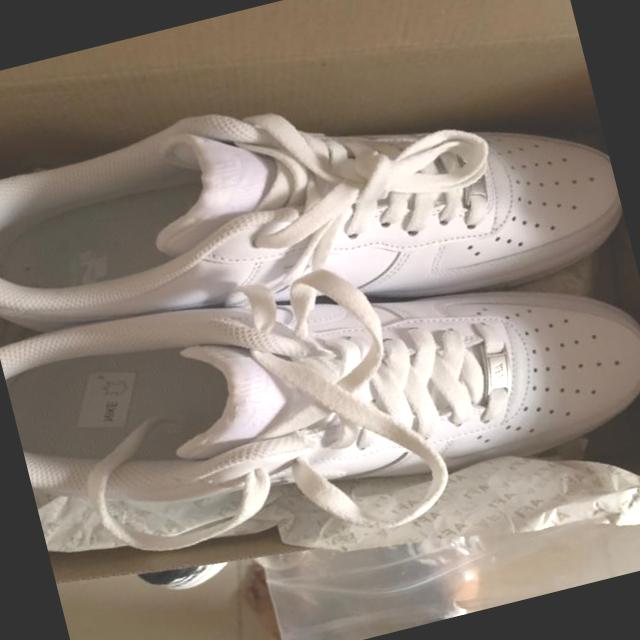nike_original_airforce: (0, 190, 640, 584), (0, 19, 634, 410)
